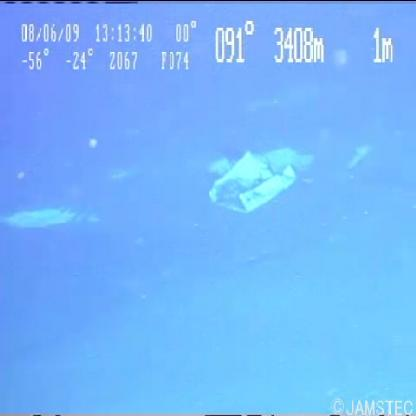Bio: (4, 194, 105, 246)
Rác: (203, 131, 319, 223)
